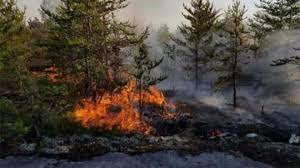fire: (70, 80, 167, 134)
smoke: (165, 27, 298, 125)
